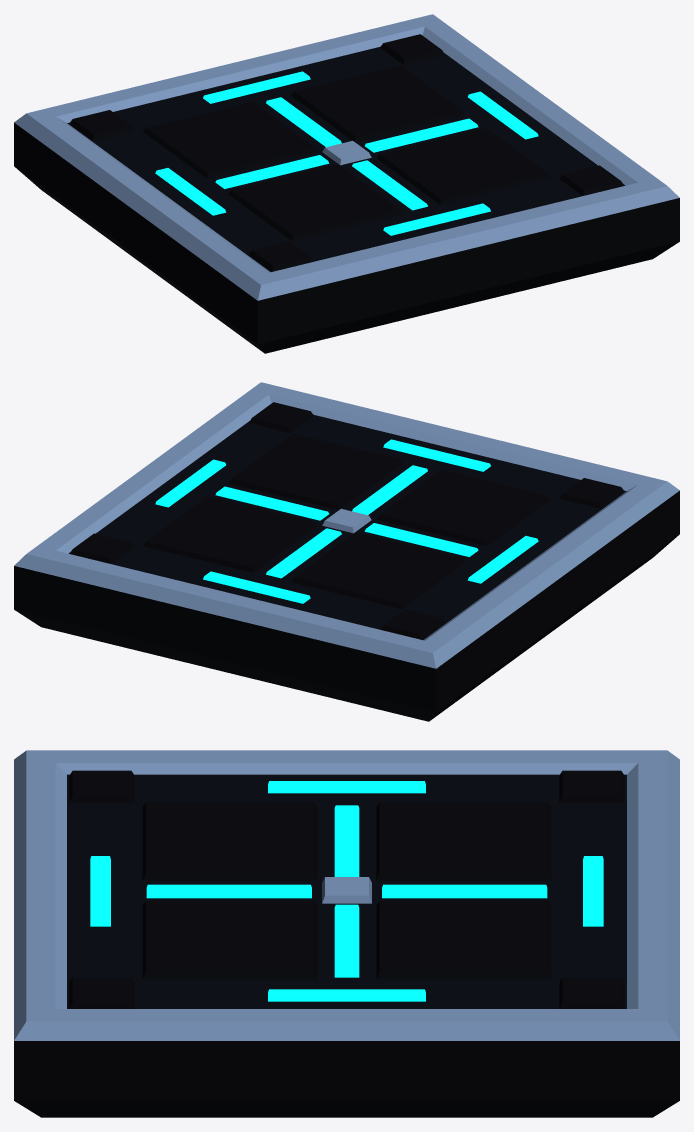
File: SM_ArenaTile_01_SafeNormal.glb
3 views of the same model, one above another, from view 1: azimuth 30°, elevation 25°; view 2: azimuth 150°, elevation 25°; view 3: azimuth 270°, elevation 25° (orthographic). The views are drawn at different scales.
Parts seen in each view (by area): view 1: Part_MAT_DarkNeutral, Part_MAT_LightTrim, Part_MAT_AltNeutral, Part_EMI_Cyan; view 2: Part_MAT_DarkNeutral, Part_MAT_LightTrim, Part_MAT_AltNeutral, Part_EMI_Cyan; view 3: Part_MAT_DarkNeutral, Part_MAT_LightTrim, Part_MAT_AltNeutral, Part_EMI_Cyan.
Boxes of the visible parts, left/top/right/bottom form: Part_MAT_DarkNeutral: left=14, top=34, right=679, bottom=353; Part_MAT_LightTrim: left=14, top=14, right=679, bottom=300; Part_MAT_AltNeutral: left=67, top=46, right=624, bottom=271; Part_EMI_Cyan: left=155, top=71, right=538, bottom=235; Part_MAT_DarkNeutral: left=14, top=402, right=679, bottom=721; Part_MAT_LightTrim: left=14, top=382, right=679, bottom=668; Part_MAT_AltNeutral: left=69, top=414, right=626, bottom=639; Part_EMI_Cyan: left=155, top=439, right=538, bottom=603; Part_MAT_DarkNeutral: left=14, top=770, right=679, bottom=1117; Part_MAT_LightTrim: left=14, top=750, right=679, bottom=1040; Part_MAT_AltNeutral: left=67, top=774, right=626, bottom=1008; Part_EMI_Cyan: left=90, top=781, right=603, bottom=1001.
Bounding box in the file's own units: 11.8 × 2 × 11.8.
Materials: 4 (4 with a texture image).
